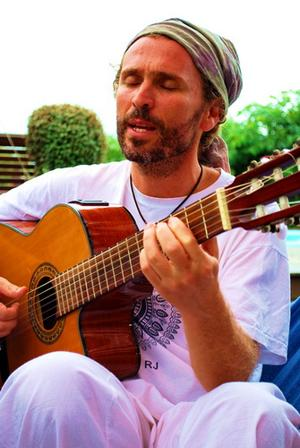person: (2, 17, 300, 448)
